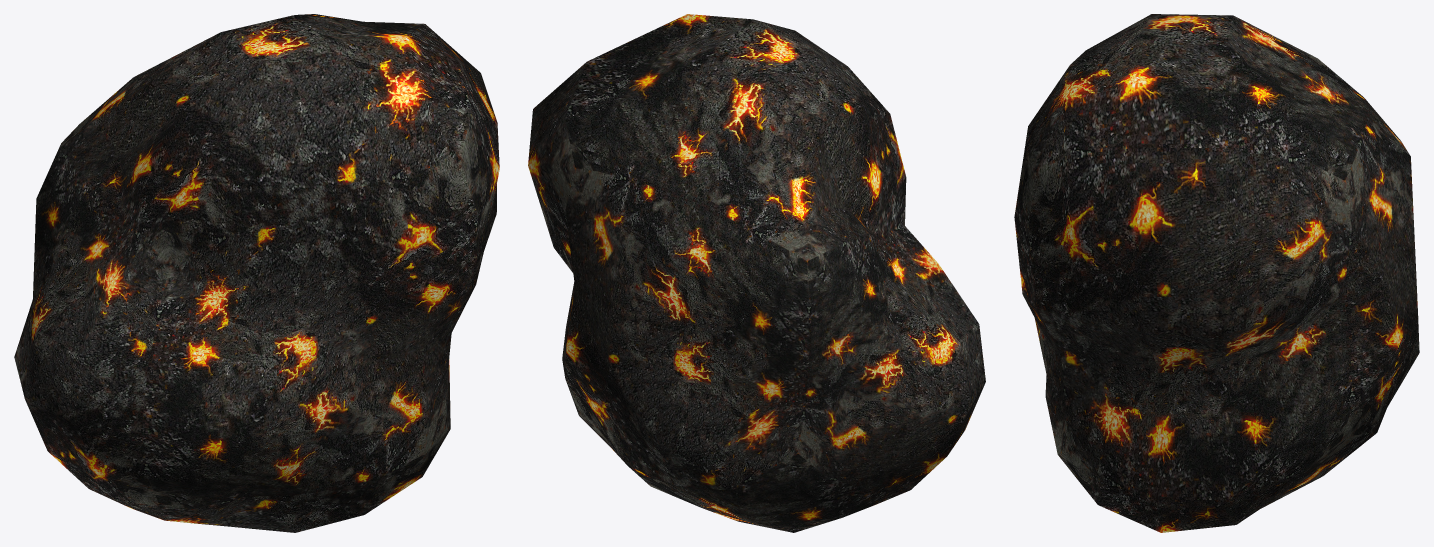
Rendered from asteroid_moltenrock_small_s01_l0.fbx.
3 renders of one model, left to right at view 1: azimuth 30°, elevation 25°; view 2: azimuth 150°, elevation 25°; view 3: azimuth 270°, elevation 25°, orthographic. The views are drawn at different scales.
Parts seen in each view (by area): view 1: mesh_node; view 2: mesh_node; view 3: mesh_node.
Boxes of the visible parts, x1=… form: mesh_node: x1=14, y1=14, x2=499, y2=532; mesh_node: x1=528, y1=14, x2=985, y2=532; mesh_node: x1=1014, y1=14, x2=1419, y2=532.
Bounding box in the file's own units: 28.42 × 29.05 × 21.72.
1 material, 1 textured.
